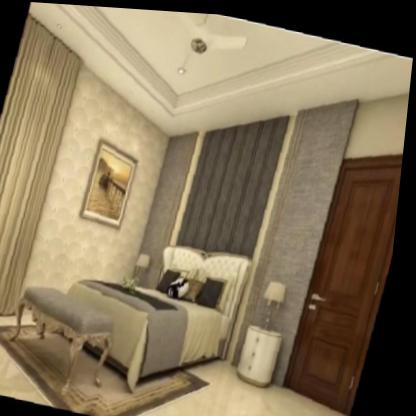Bed: (50, 219, 267, 395)
Frame: (73, 133, 152, 234)
Lamp: (258, 267, 300, 334)
Nightstand: (238, 314, 298, 391)
